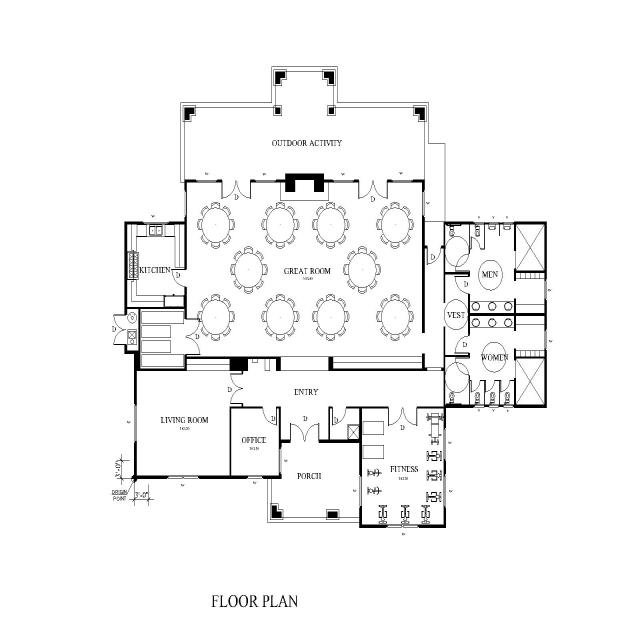Column: (179, 101, 197, 123), (268, 502, 286, 522), (412, 104, 428, 125), (272, 68, 288, 86), (230, 356, 248, 372), (322, 68, 336, 88), (325, 508, 340, 522), (273, 105, 283, 117), (326, 105, 336, 117)
Door: (289, 438, 320, 444), (184, 316, 188, 356), (358, 178, 388, 182), (222, 179, 251, 183), (241, 373, 244, 405), (124, 313, 127, 345), (184, 267, 187, 288), (427, 245, 442, 249), (388, 406, 418, 408), (262, 406, 276, 410), (468, 252, 470, 272), (468, 357, 470, 377), (468, 276, 470, 294), (468, 335, 470, 353), (331, 406, 347, 408), (485, 379, 495, 382), (501, 379, 511, 382), (470, 248, 481, 250), (471, 380, 480, 382)
Opening: (421, 332, 426, 354), (427, 366, 442, 372), (443, 302, 446, 328)
Ventilator: (502, 221, 514, 225), (488, 221, 499, 225), (474, 221, 484, 225), (474, 404, 484, 408), (489, 404, 499, 408), (503, 404, 513, 408)
Window: (386, 524, 420, 530), (133, 403, 138, 442), (167, 474, 199, 480), (442, 475, 446, 507), (143, 221, 169, 225), (359, 474, 362, 508), (246, 474, 263, 480), (443, 428, 446, 460), (278, 449, 282, 473), (196, 179, 217, 183), (392, 179, 413, 183), (256, 179, 276, 183), (334, 179, 354, 183), (544, 280, 548, 298), (544, 328, 547, 349), (422, 191, 424, 216)
